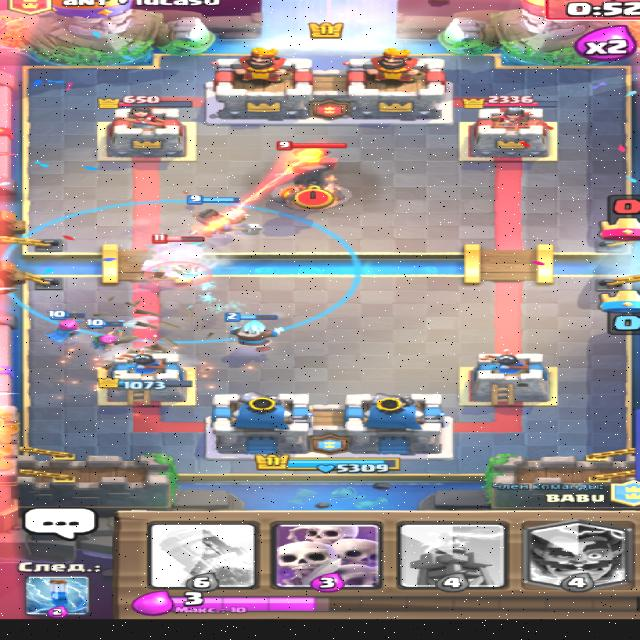Enemy-HogRider: (138, 233, 204, 272)
Enemy-InfernoTower: (268, 139, 354, 211)
Player-Archer: (42, 309, 84, 342), (85, 317, 124, 352)
Player-HogRider: (183, 193, 263, 237)
Player-IceWizard: (222, 311, 284, 352)
Player-Tornado: (0, 198, 364, 344)
